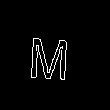M_N: (33, 28, 77, 82)
